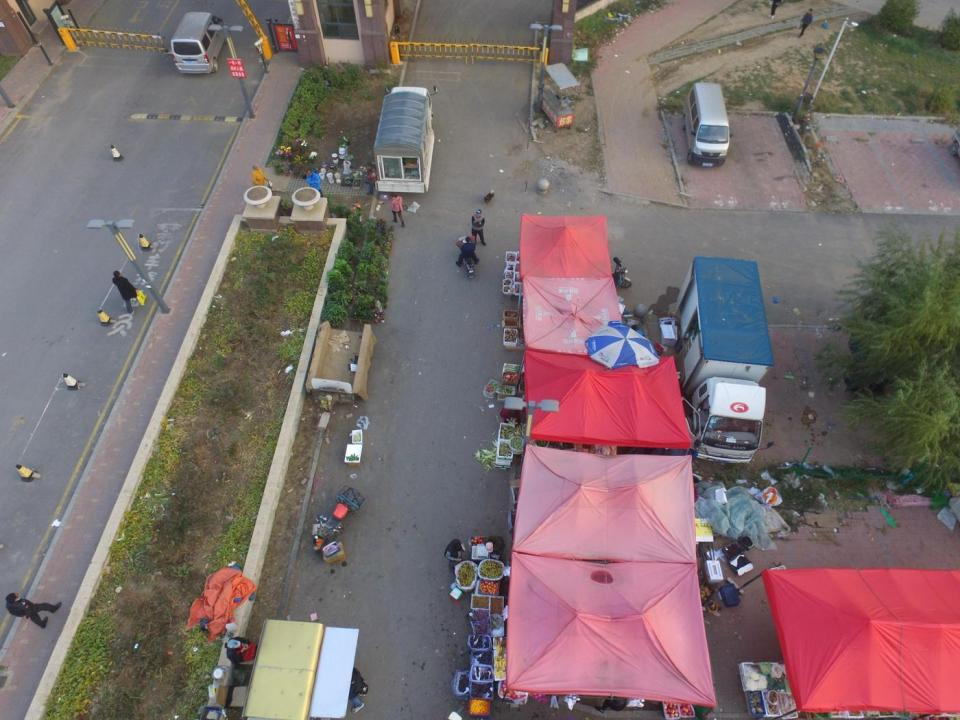truck: (676, 256, 774, 464), (374, 85, 438, 193)
van: (682, 82, 733, 167), (171, 12, 227, 73)
